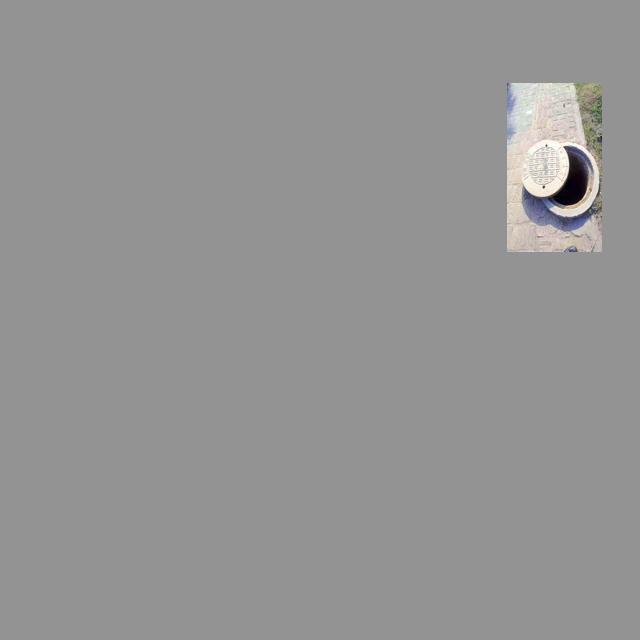uncovered: (521, 139, 599, 216)
